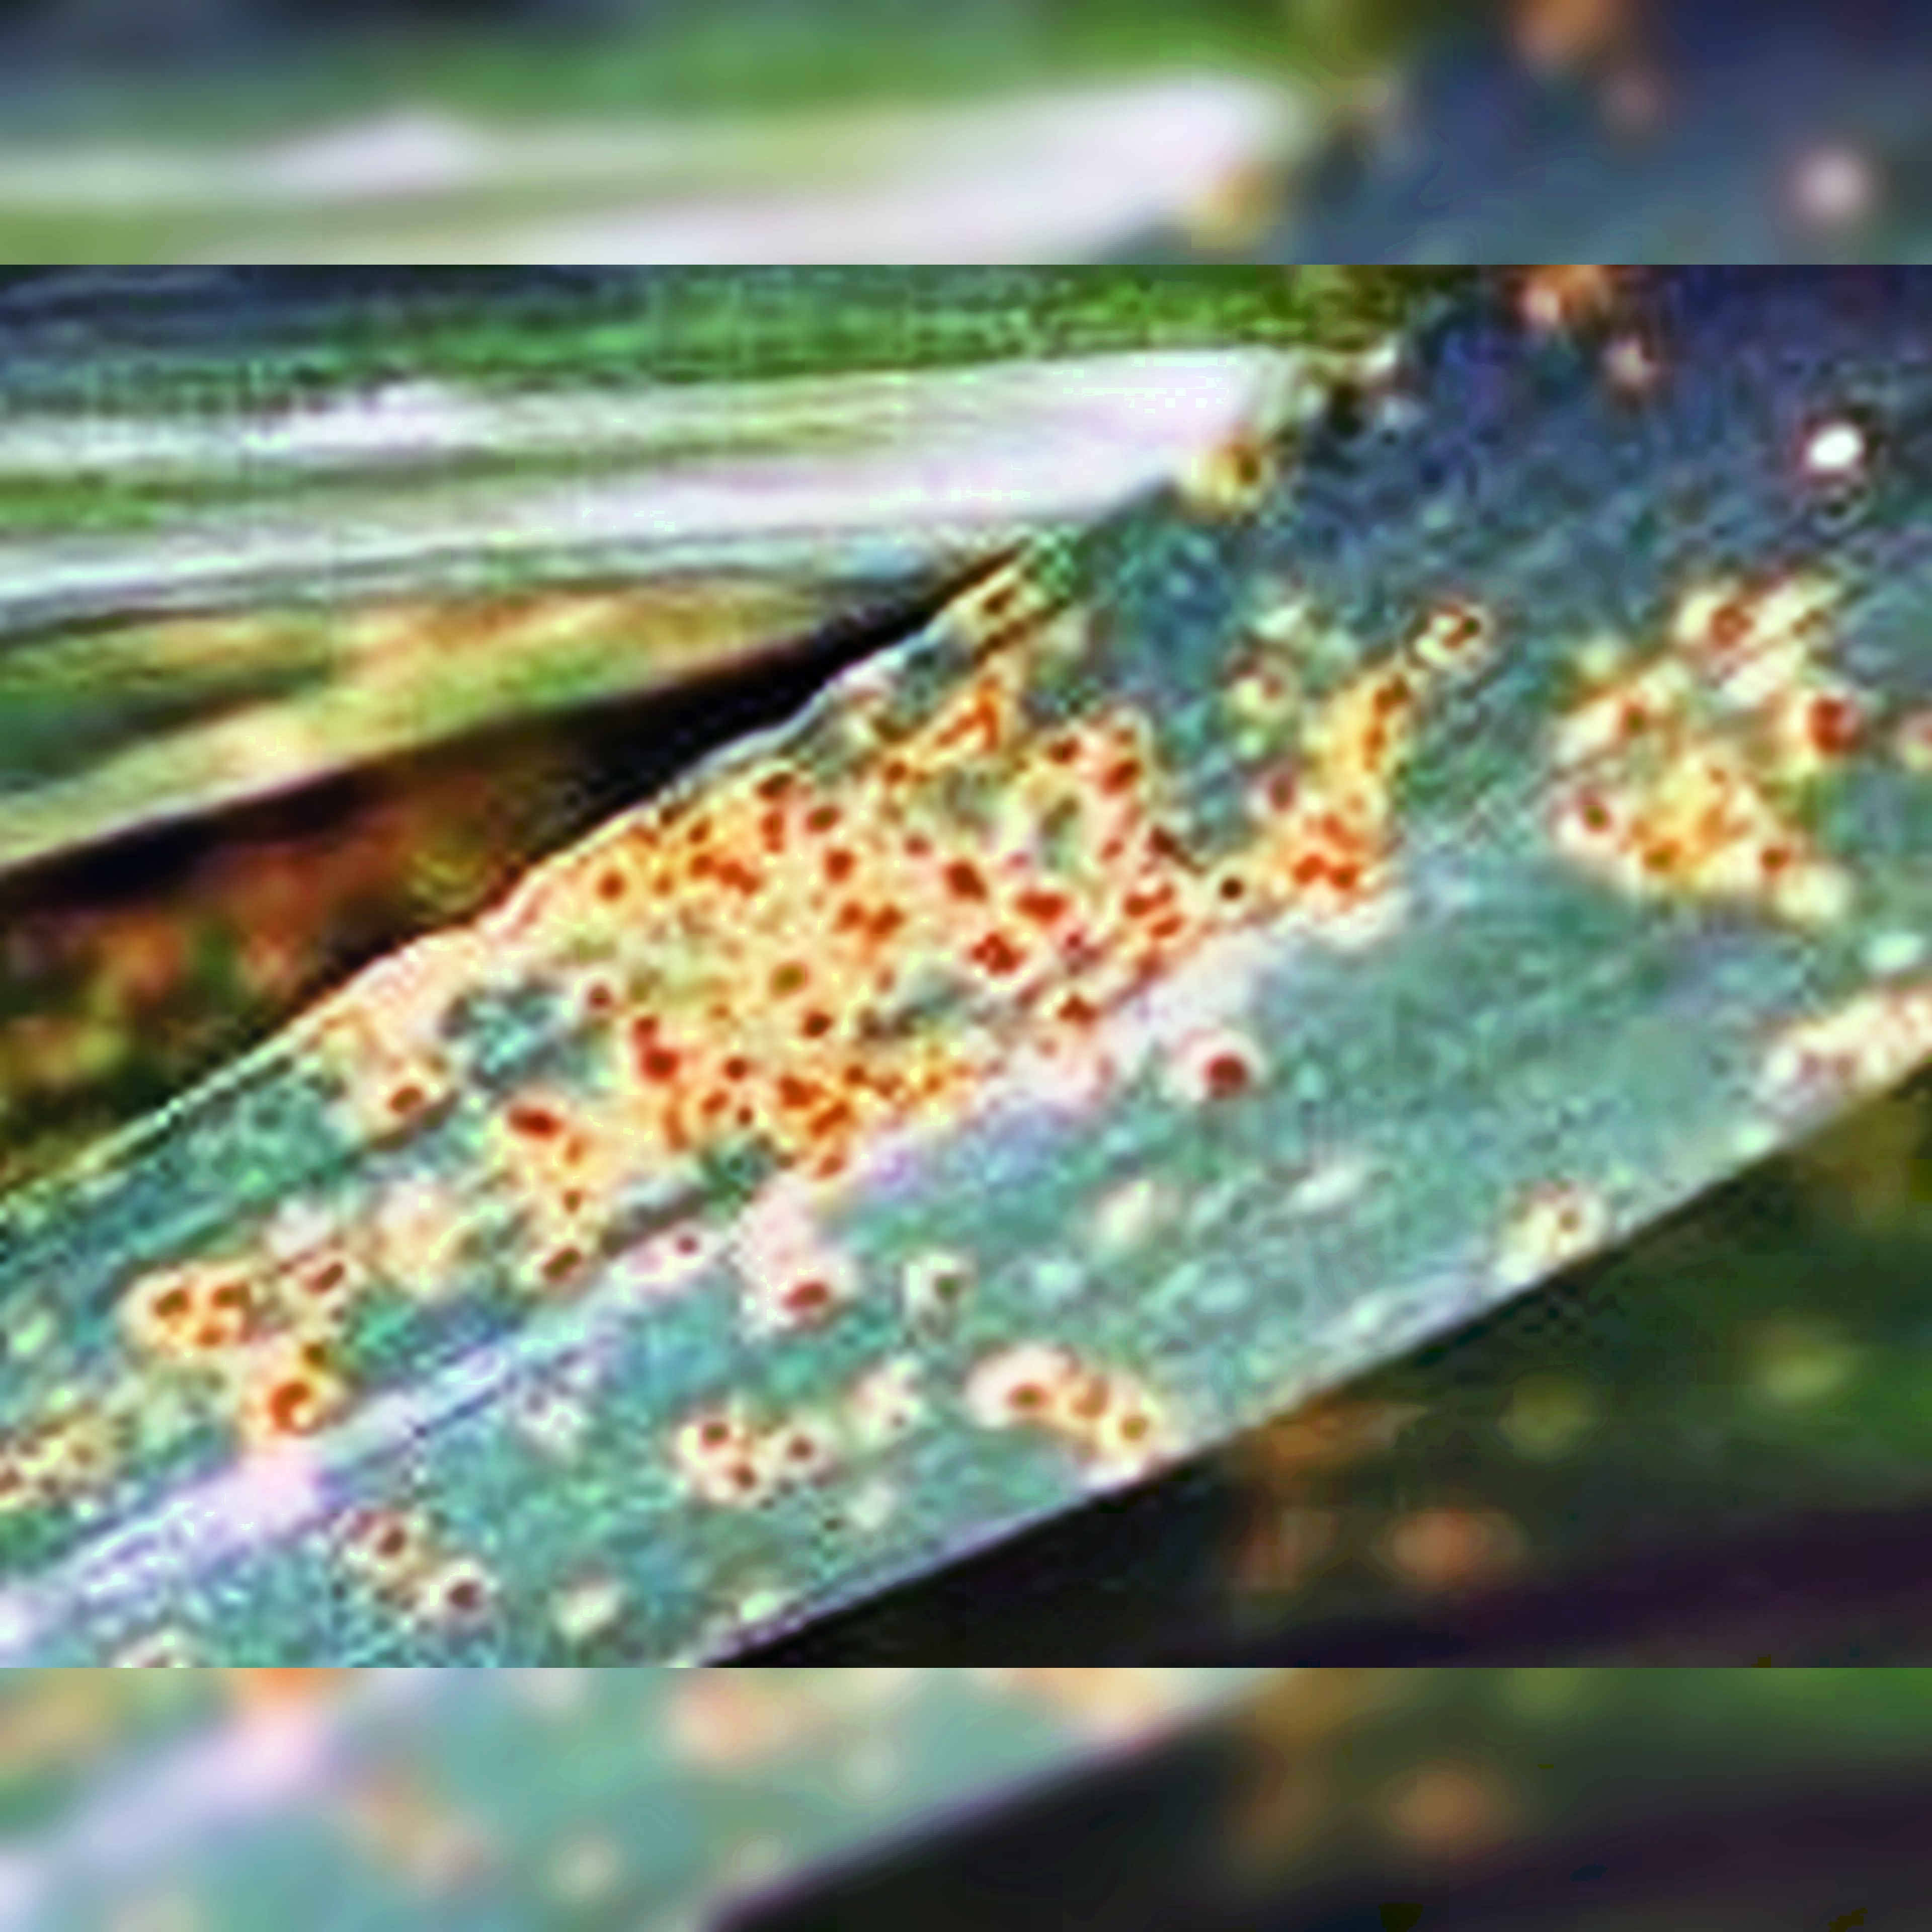Leaf Rust: (200, 488, 1631, 1589)
